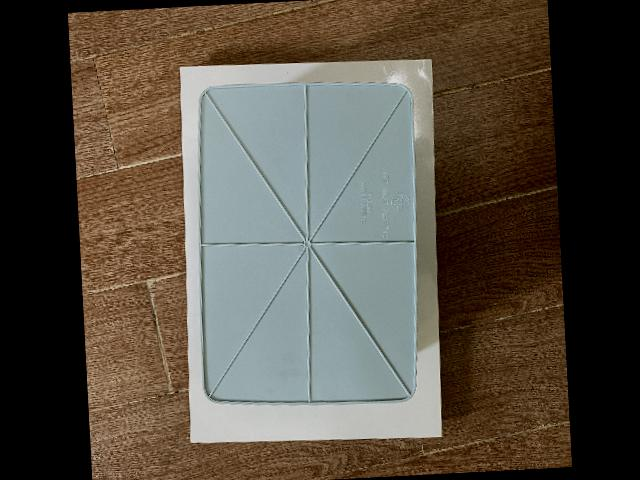cart: (200, 80, 419, 405)
